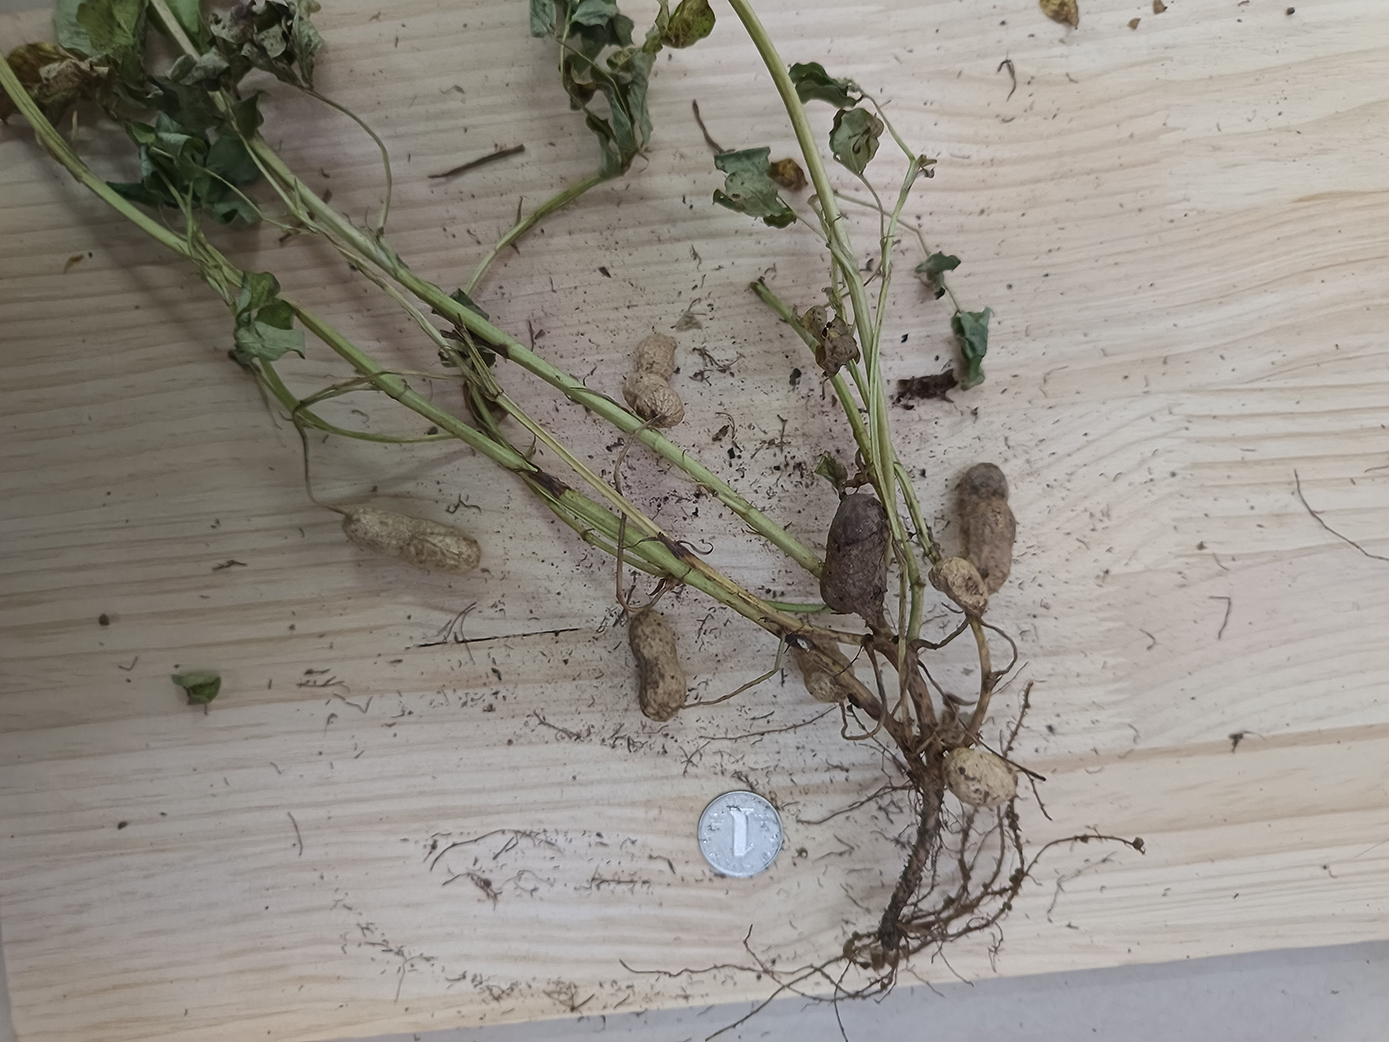h: (343, 505, 481, 575), (624, 332, 687, 429), (630, 612, 686, 720), (944, 746, 1017, 810), (791, 629, 854, 703), (930, 556, 988, 615)
l: (819, 493, 891, 613), (956, 461, 1015, 591)
